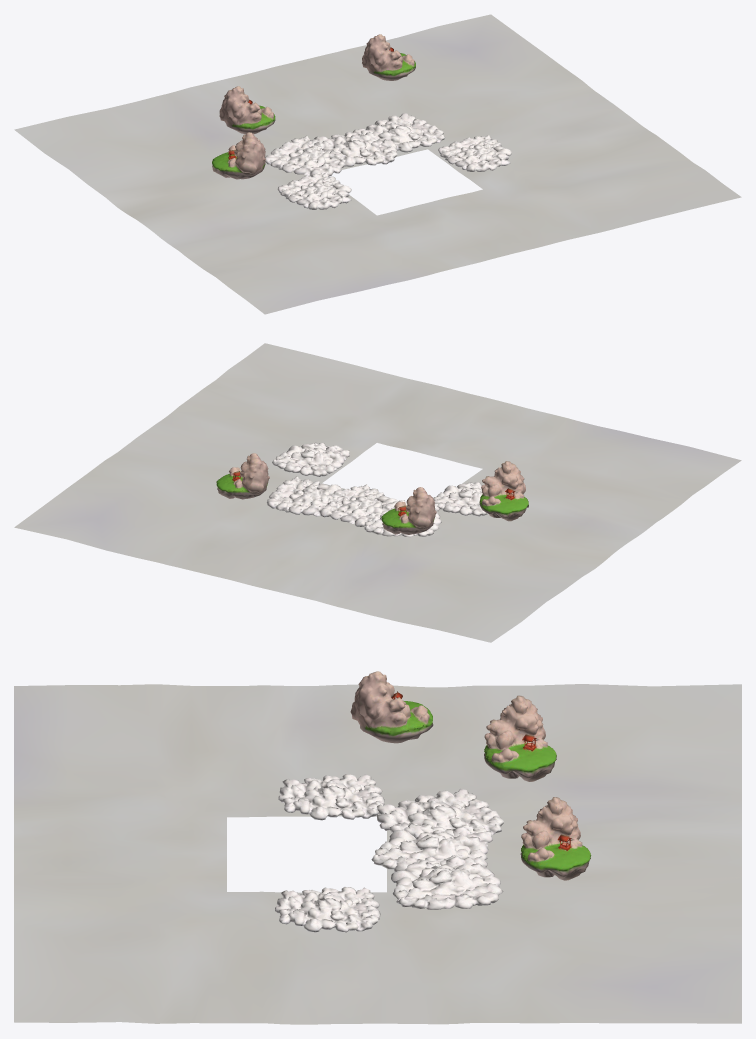
Rendered from surroundings.glb.
3 views of the same model, one above another, from view 1: azimuth 30°, elevation 25°; view 2: azimuth 150°, elevation 25°; view 3: azimuth 270°, elevation 25° (orthographic). The views are drawn at different scales.
Visible parts, largest first — view 1: heaven_sea, heaven_meshy; view 2: heaven_sea, heaven_meshy; view 3: heaven_sea, heaven_meshy.
Part boxes in pixels (bbox=[...]): heaven_sea: bbox=[14, 14, 741, 314]; heaven_meshy: bbox=[212, 34, 511, 209]; heaven_sea: bbox=[14, 343, 741, 642]; heaven_meshy: bbox=[216, 442, 528, 537]; heaven_sea: bbox=[14, 684, 741, 1024]; heaven_meshy: bbox=[275, 671, 591, 932].
Bounding box in the file's own units: 180 × 25.69 × 164.
Materials: 2 (1 with a texture image).
